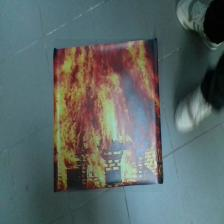fire-poster: (54, 39, 163, 192)
